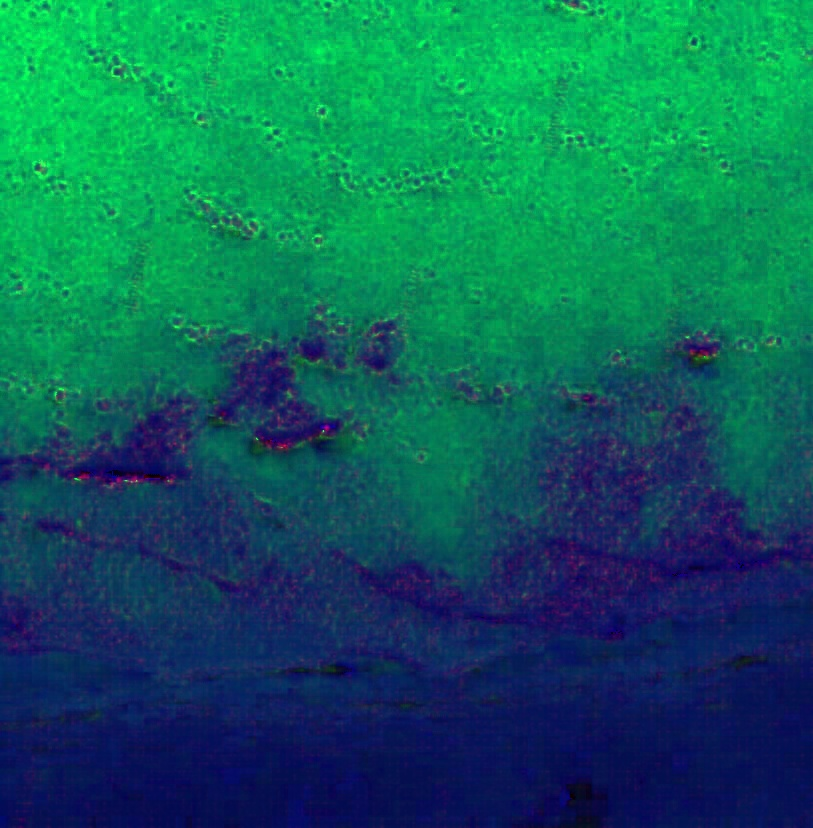rip_current: (341, 289, 545, 625)
